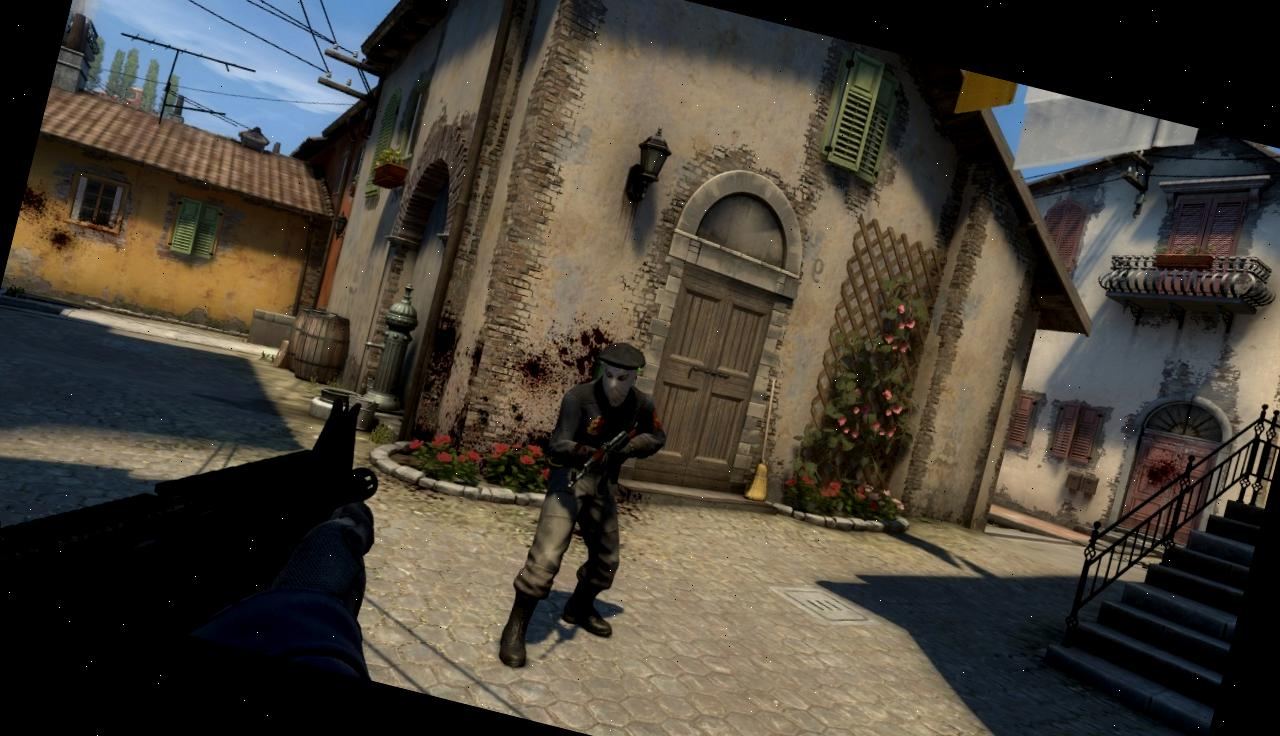rifle: (0, 311, 399, 671)
tt: (494, 330, 674, 682)
tthead: (593, 340, 644, 403)
